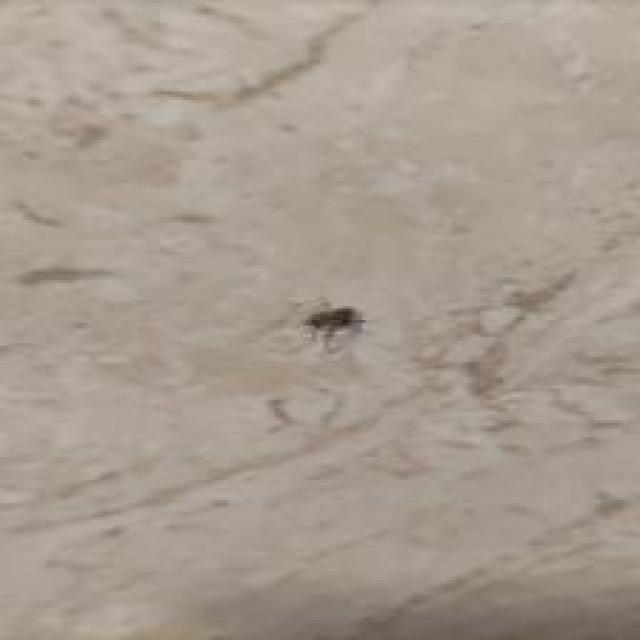Aedes albopictus: (303, 306, 366, 340)
